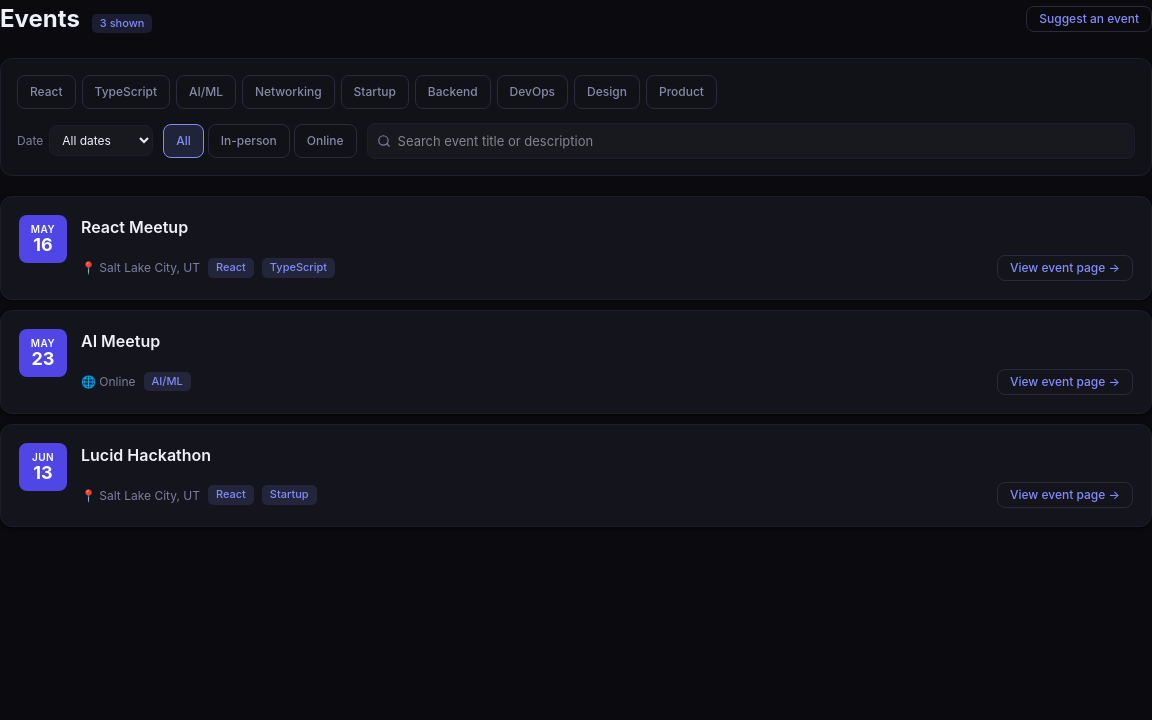
EventsPage › opens a submit dialog when Suggest an event is clicked
The width and height of the screenshot is (1152, 720).
Click the button "Suggest an event": (1089, 19) [1026,6,1151,32]
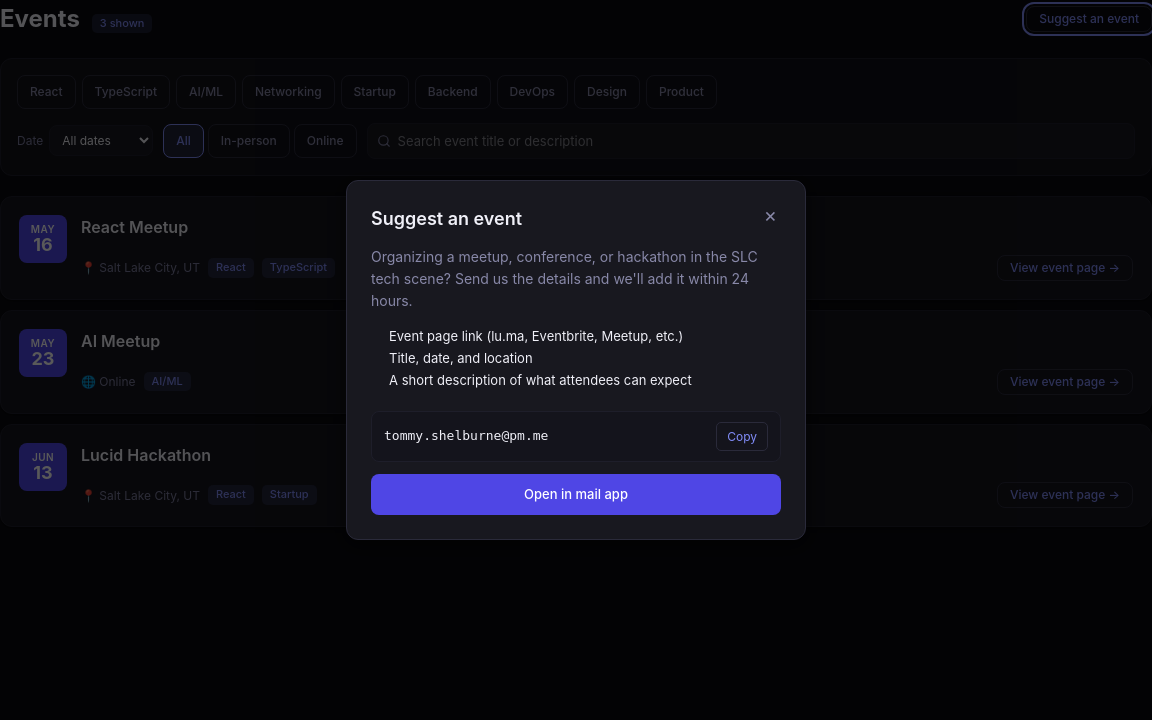
Expected: the dialog "Suggest an event" is shown
Expected: the text "tommy.shelburne@pm.me" is shown, [384,428,548,443]
